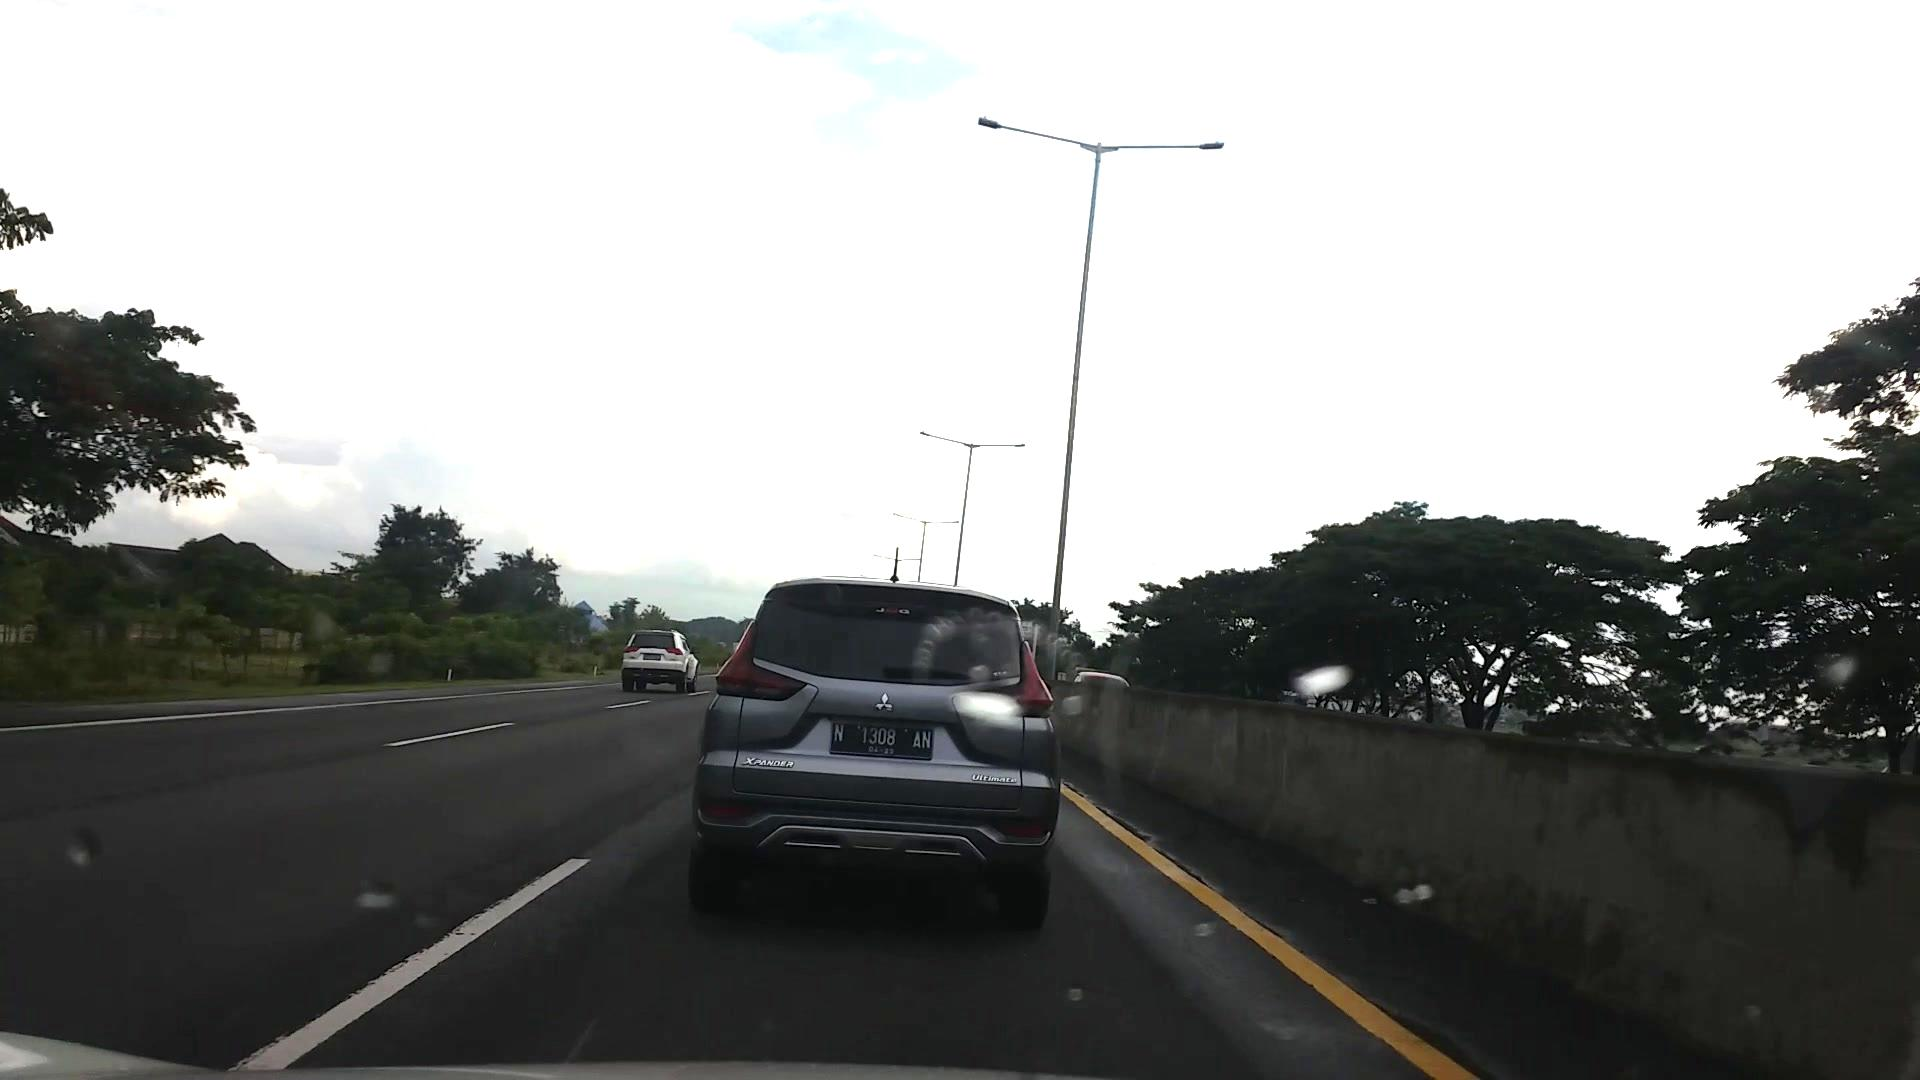plate_positive: (829, 723, 934, 760)
